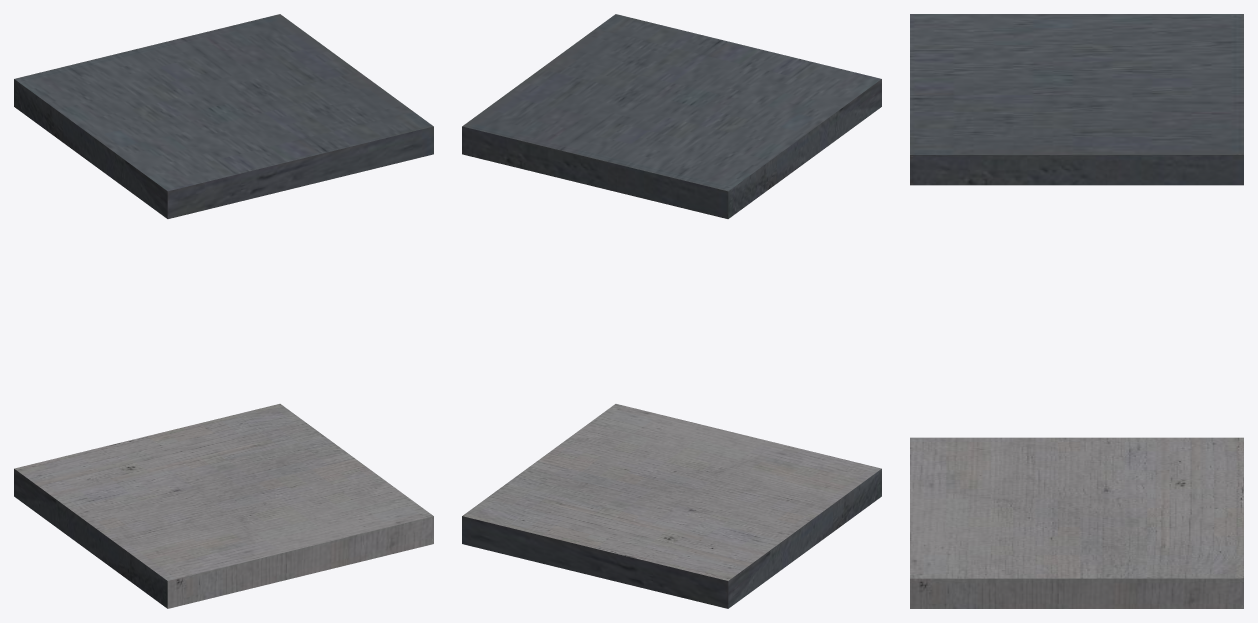
The model's file is WoodenHomeFloor.glb.
The picture shows the model from 3 angles, left to right: view 1: azimuth 30°, elevation 25°; view 2: azimuth 150°, elevation 25°; view 3: azimuth 270°, elevation 25°; orthographic projection. The views are drawn at different scales.
Visible parts, largest first — view 1: floor_ceiling; view 2: floor_ceiling; view 3: floor_ceiling.
Boxes of the visible parts, bbox=[...] form: floor_ceiling: bbox=[14, 14, 433, 608]; floor_ceiling: bbox=[462, 14, 881, 608]; floor_ceiling: bbox=[910, 14, 1243, 608].
Size of the model in its own units: 2 by 3 by 2.
1 material, 1 textured.
